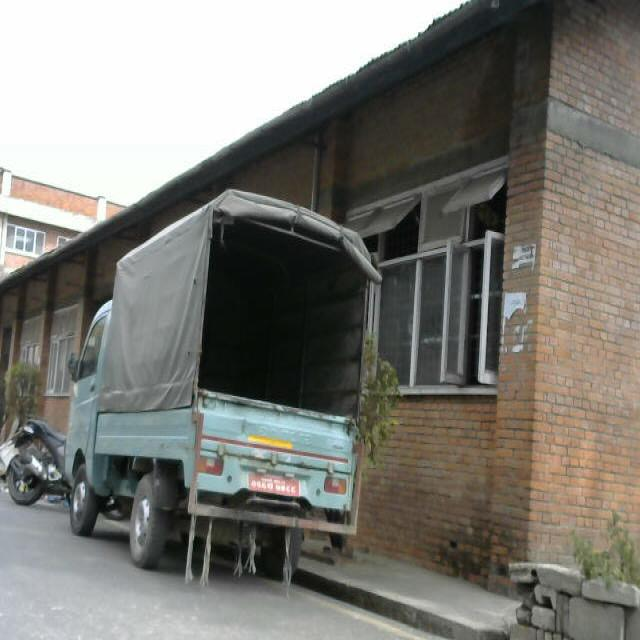Buildings: (321, 0, 632, 563)
Vehicle: (64, 192, 355, 559)
